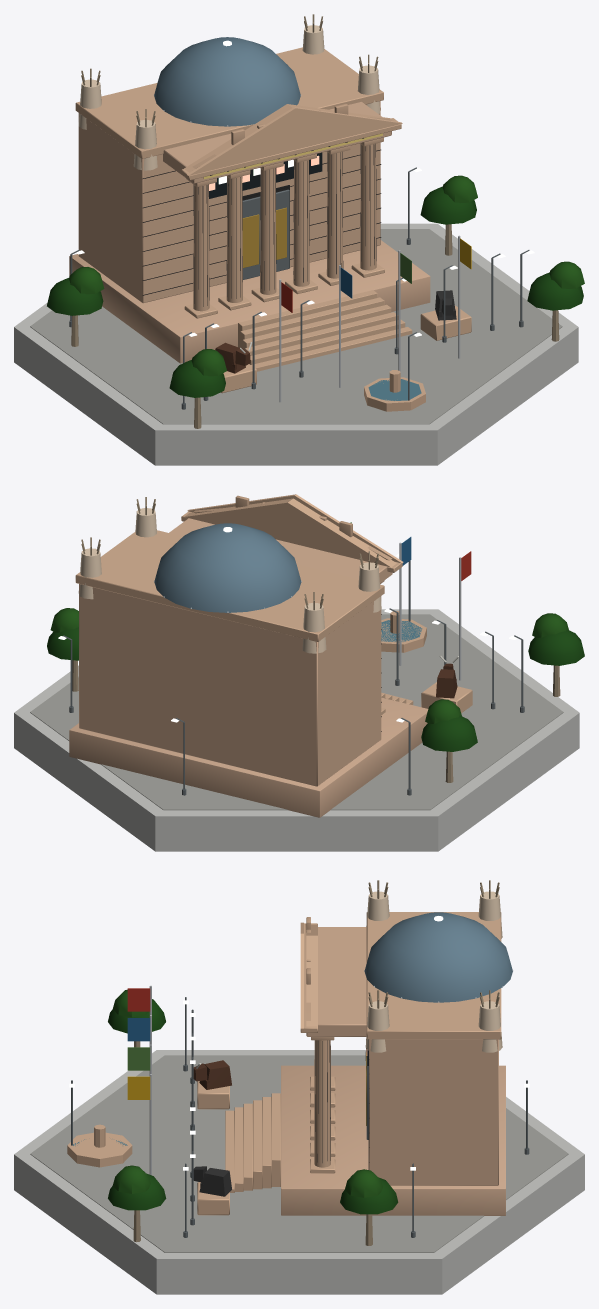
The model's file is stockExchange_africa.glb.
3 views of the same model, one above another, from view 1: azimuth 30°, elevation 25°; view 2: azimuth 150°, elevation 25°; view 3: azimuth 270°, elevation 25° (orthographic).
Parts seen in each view (by area): view 1: stone, pavers, wall_concrete, glass, leaf, dark, paint, steel_dark, plaster, gold, wood, metal; view 2: stone, wall_concrete, pavers, glass, leaf, plaster, steel_dark, paint, wood, metal; view 3: stone, pavers, wall_concrete, glass, leaf, paint, plaster, steel_dark, wood, dark.
Boxes of the visible parts, <box> form: stone: <box>69,47,471,411</box>; pavers: <box>30,229,562,424</box>; wall_concrete: <box>14,223,578,465</box>; glass: <box>154,37,421,400</box>; leaf: <box>47,175,584,397</box>; dark: <box>142,138,381,306</box>; paint: <box>209,152,471,373</box>; steel_dark: <box>69,167,529,409</box>; plaster: <box>78,25,380,170</box>; gold: <box>203,133,382,267</box>; wood: <box>71,14,559,428</box>; metal: <box>153,95,460,402</box>; stone: <box>69,494,472,817</box>; wall_concrete: <box>14,609,579,851</box>; pavers: <box>30,614,563,810</box>; glass: <box>154,523,422,641</box>; leaf: <box>47,608,584,751</box>; plaster: <box>78,508,381,653</box>; steel_dark: <box>63,560,524,795</box>; paint: <box>350,522,471,698</box>; wood: <box>72,497,560,782</box>; metal: <box>154,542,461,680</box>; stone: <box>67,912,505,1215</box>; pavers: <box>30,1055,568,1252</box>; wall_concrete: <box>14,1050,584,1294</box>; glass: <box>73,912,512,1146</box>; leaf: <box>108,989,398,1214</box>; paint: <box>127,988,368,1196</box>; plaster: <box>365,891,502,1052</box>; steel_dark: <box>71,997,529,1237</box>; wood: <box>133,880,499,1245</box>; dark: <box>315,1040,369,1169</box>.
Bounding box in the file's own units: 21.31 × 12.95 × 24.6.
